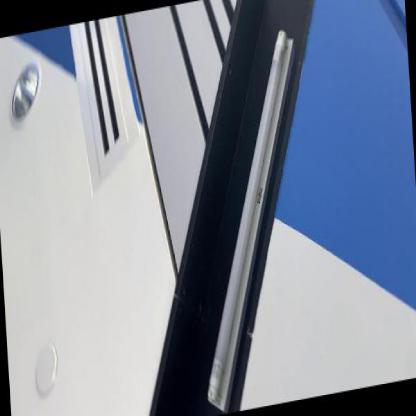light_off: (178, 18, 324, 415)
